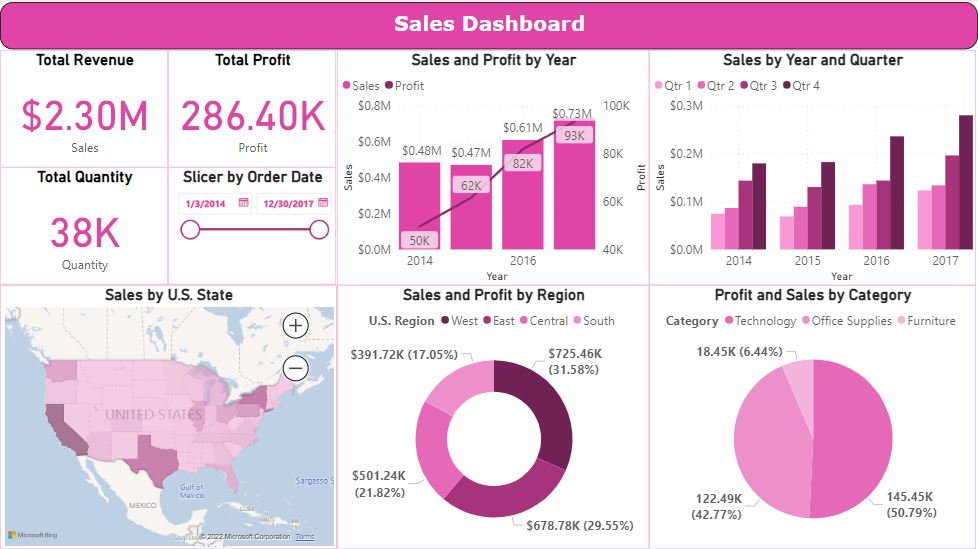

Layout of this report page (visuals, bound fields, positions):
{"tool":"powerbi","page":{"name":"Total Sales Dashboard","canvas":[1280,720],"ordinal":0},"visuals":[{"type":"textbox","box":[0,4.3,1280.2,61.9],"z":0},{"type":"card","title":"Total Revenue","fields":{"Values":["Sum(Orders.Sales)"]},"box":[0,66.2,220.3,154.1],"z":1000},{"type":"card","title":"Total Quantity","fields":{"Values":["Sum(Orders.Quantity)"]},"box":[0,220.3,220.3,154.1],"z":2000},{"type":"card","title":"Total Profit","fields":{"Values":["Sum(Orders.Profit)"]},"box":[220.3,66.2,220.3,154.1],"z":3000},{"type":"slicer","title":"Slicer by Order Date","fields":{"Values":["Orders.Order Date"]},"box":[220.3,220.3,220.3,154.1],"z":4000},{"type":"lineStackedColumnComboChart","title":"Sales and Profit by Year","fields":{"Category":["Orders.Order Date.Variation.Date Hierarchy.Year","Orders.Order Date.Variation.Date Hierarchy.Quarter","Orders.Order Date.Variation.Date Hierarchy.Month","Orders.Order Date.Variation.Date Hierarchy.Day"],"Y":["Sum(Orders.Sales)"],"Y2":["Sum(Orders.Profit)"]},"box":[440.6,66.2,409,308.2],"z":5000},{"type":"clusteredColumnChart","fields":{"Category":["Orders.Year"],"Series":["Orders.Quarter"],"Y":["Sum(Orders.Sales)"]},"box":[849.6,66.2,427.7,308.2],"z":6000},{"type":"filledMap","title":"Sales by U.S. State","fields":{"Category":["Orders.State"]},"box":[0,374.4,440.6,345.6],"z":7000},{"type":"donutChart","fields":{"Y":["Sum(Orders.Sales)"],"Category":["Orders.Region"]},"box":[440.6,374.4,409,345.6],"z":8000},{"type":"pieChart","fields":{"Category":["Orders.Category"],"Y":["Sum(Orders.Profit)"]},"box":[849.6,374.4,427.7,345.6],"z":9000}]}

Visuals, with their boxes in screenshot pixels (x1, y1, x2, y2), scaled from the page's 1280x720 canvas onto the 978x549 screenshot:
textbox: [x1=0, y1=3, x2=977, y2=50]
"Total Revenue" card: [x1=0, y1=50, x2=168, y2=168]
"Total Quantity" card: [x1=0, y1=168, x2=168, y2=285]
"Total Profit" card: [x1=168, y1=50, x2=337, y2=168]
"Slicer by Order Date" slicer: [x1=168, y1=168, x2=337, y2=285]
"Sales and Profit by Year" lineStackedColumnComboChart: [x1=337, y1=50, x2=649, y2=285]
clusteredColumnChart - Orders.Year x Orders.Quarter: [x1=649, y1=50, x2=976, y2=285]
"Sales by U.S. State" filledMap: [x1=0, y1=285, x2=337, y2=548]
donutChart - Sum(Orders.Sales) x Orders.Region: [x1=337, y1=285, x2=649, y2=548]
pieChart - Orders.Category x Sum(Orders.Profit): [x1=649, y1=285, x2=976, y2=548]
